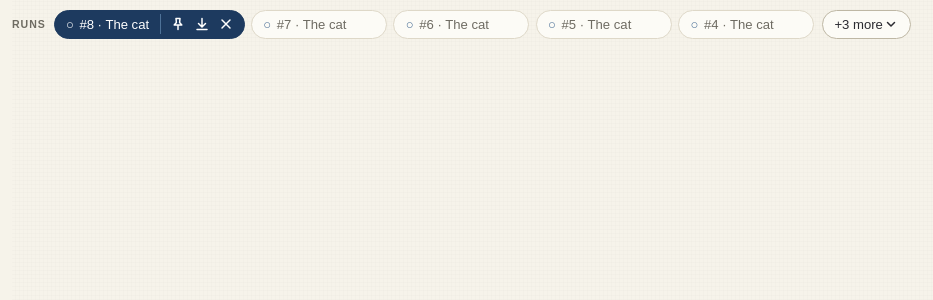
the list shows every run; choosing one activates it and closes the list
Click the button with test id "run-more".
click(867, 24)  # box [822,10,911,39]
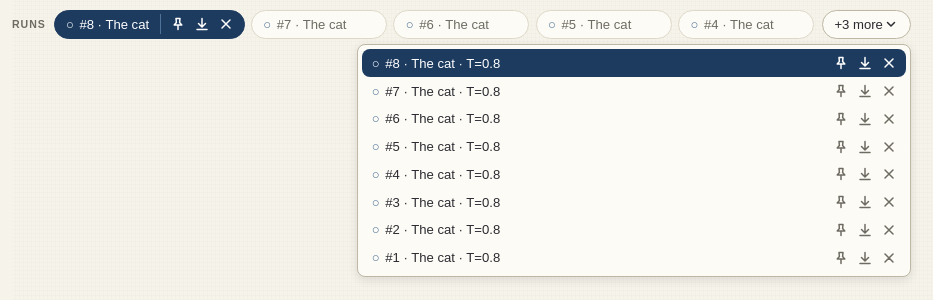
Click the button with test id "run-list-main" showing "○#1 · The cat · T=0.8".
click(443, 258)  # box [362,244,824,272]
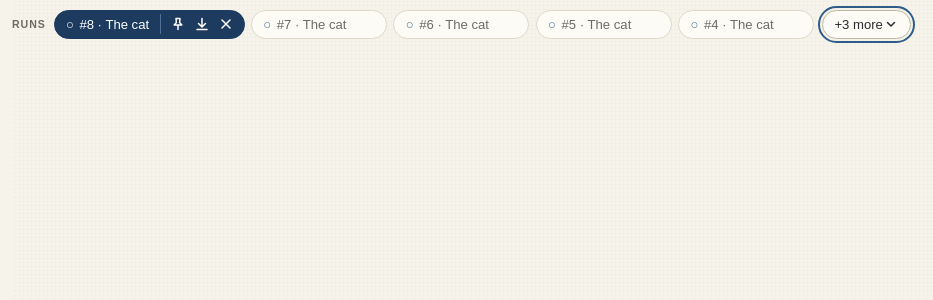
Now the element with test id "run-list" is gone
